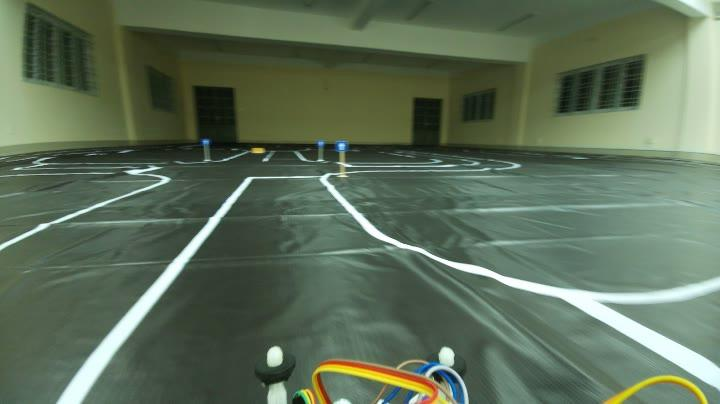onewayroad: (334, 138, 350, 156), (199, 136, 209, 148), (316, 136, 323, 148)
roadblock: (246, 145, 266, 156)
